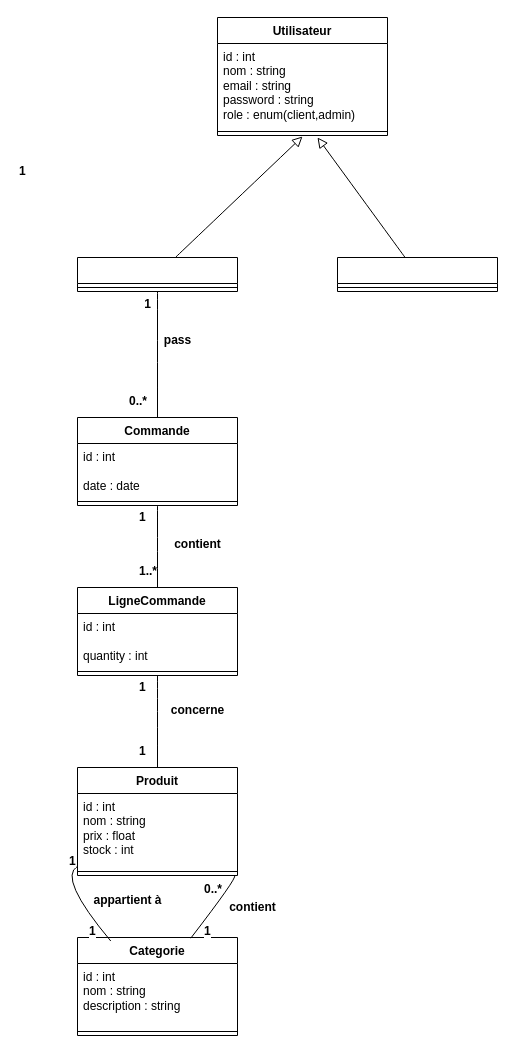
This 515x1053 diagram has some shape labels left out. The shapes that lost their labels are listed below. From the top down, each one's centre as x and y in pixels, then its label:
point 157,274: Client
point 417,274: Admin
